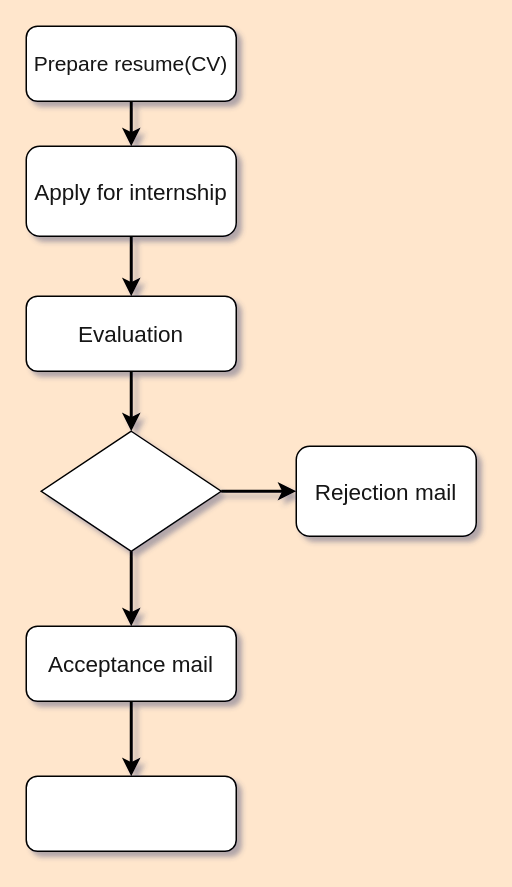
The diagram is 512 pixels wide and 887 high, and some of its shapes have lost their labels. Each missing label, with the box of its shape:
Inform candidate: (40, 430, 221, 551)
Internship begins: (25, 775, 236, 851)
